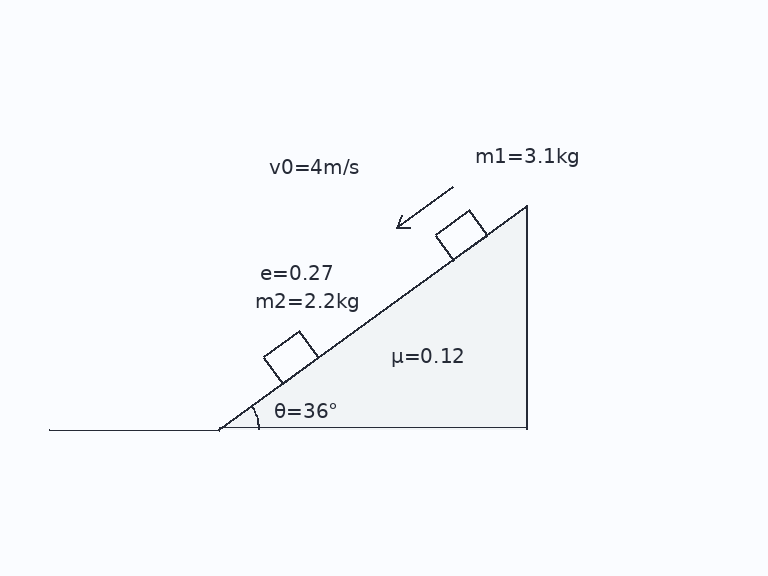block: (261, 329, 319, 385), (433, 208, 489, 261)
ramp: (217, 204, 528, 431)
